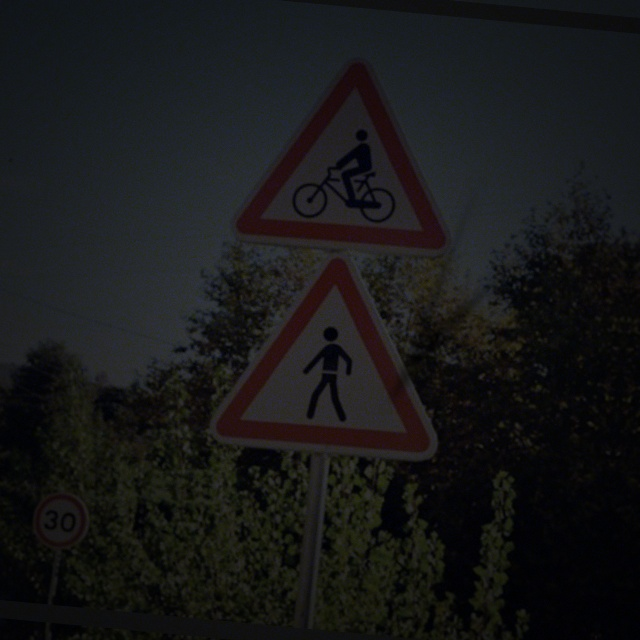Cycle_Crossing: (236, 44, 471, 259)
